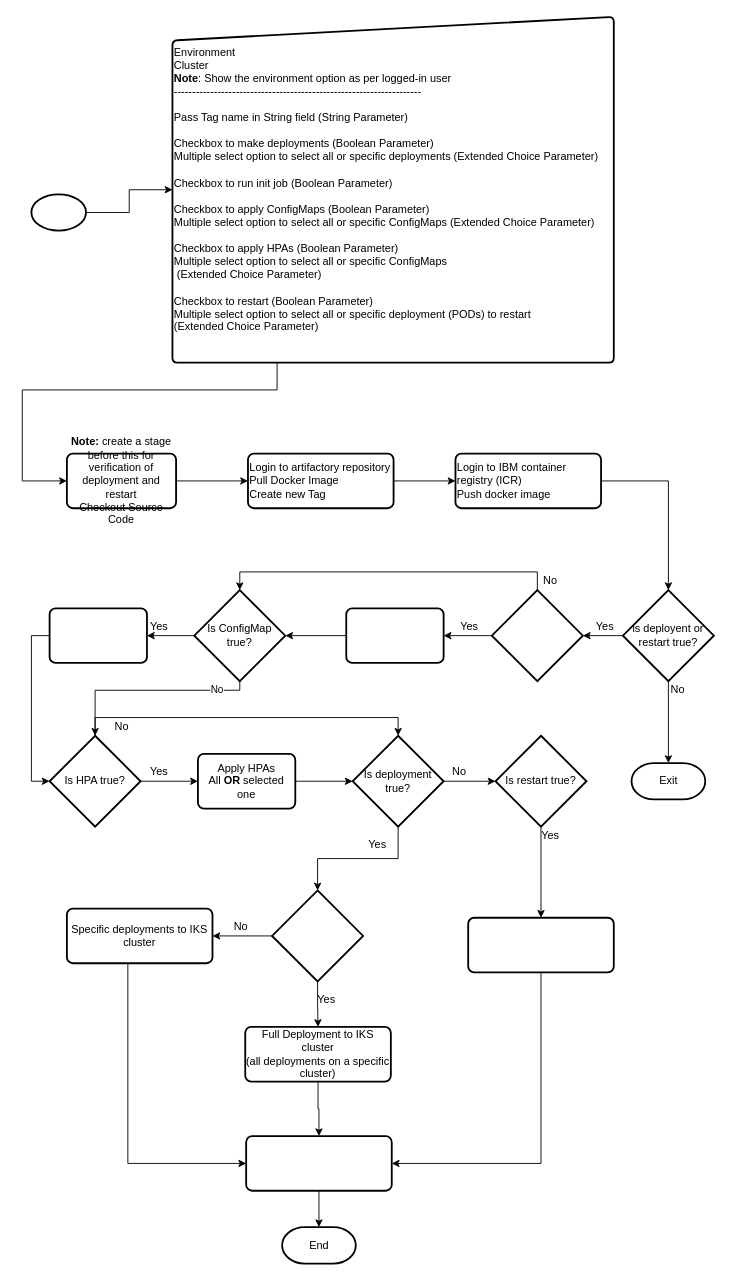
The diagram is 731 pixels wide and 1279 high, and some of its shapes have lost their labels. The shapes that lost their labels are listed below. From the top down, each one's box as (x1, y1, x2, y2) in pixels, then its label:
(30, 193, 86, 231): Start
(48, 607, 147, 663): Apply ConfigMaps All OR selected one
(345, 607, 444, 663): Run init job
(490, 589, 583, 682): Is init true?
(271, 889, 364, 982): Is full deployment?
(467, 916, 614, 973): Restart all OR specific deployments
(245, 1135, 392, 1191): Notification (Email / slack)
